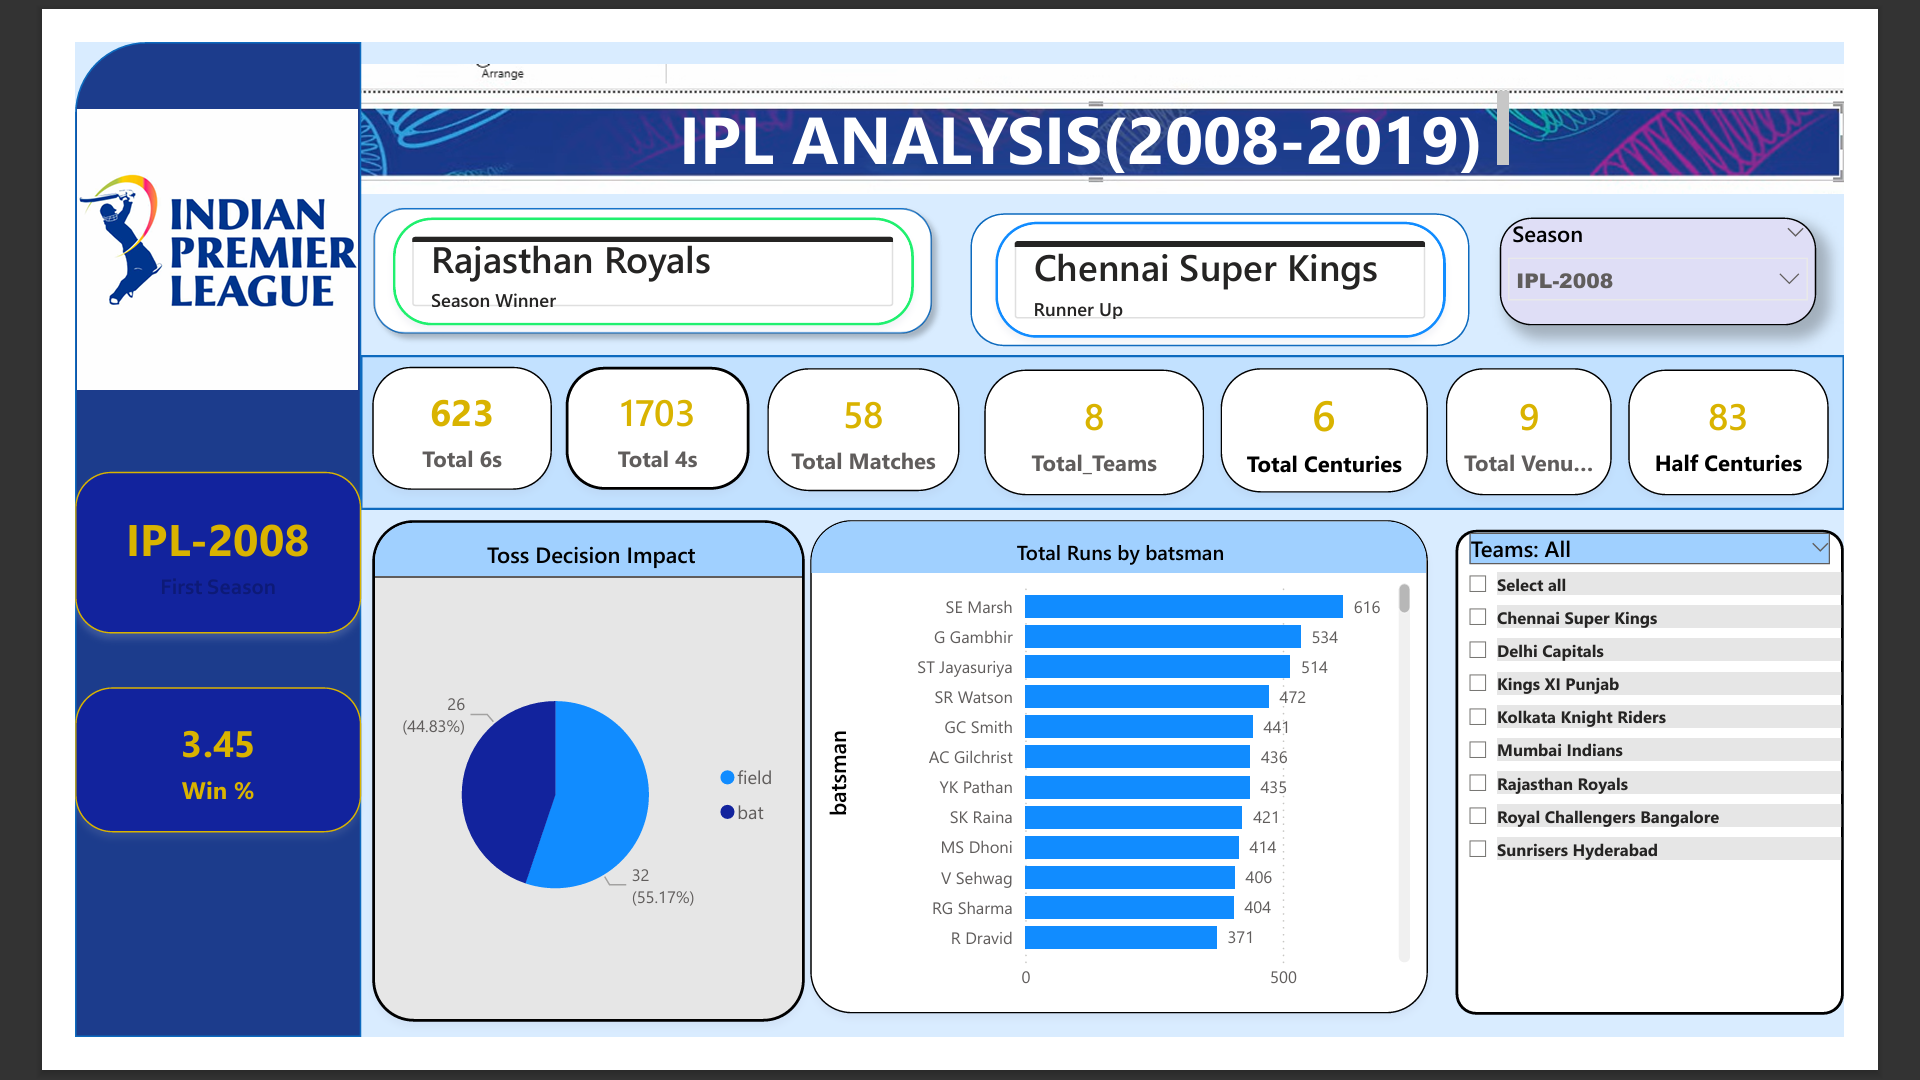

What the dashboard file says about the page in this screenshot:
{"tool":"powerbi","page":{"name":"Page-1","canvas":[1280,720],"ordinal":0},"visuals":[{"type":"image","box":[194.4,0,1085.9,126],"z":0},{"type":"textbox","box":[1041.9,289.8,238.5,123.5],"z":1000},{"type":"textbox","box":[421.9,30.6,620,68.5],"z":2000},{"type":"shape","box":[0,0,206.7,720.2],"z":3000},{"type":"slicer","fields":{"Values":["matches.Season"]},"box":[1030.8,127.2,228.7,78.3],"z":4000},{"type":"shape","box":[206.7,111.3,421.9,108.8],"z":5000},{"type":"shape","box":[206.7,227.4,1073.6,110.1],"z":6000},{"type":"cardVisual","fields":{"Data":["matches.Season Winner"]},"box":[229.9,127.2,376.6,78.3],"z":7000},{"type":"shape","box":[648.1,123.5,360.7,96.6],"z":8000},{"type":"cardVisual","fields":{"Data":["matches.Runner Up"]},"box":[666.4,129.6,325.3,84.4],"z":9000},{"type":"card","fields":{"Values":["1 deliveries.Total 6s"]},"box":[215.2,234.8,129.6,89.3],"z":10000},{"type":"card","fields":{"Values":["1 deliveries.Total 4s"]},"box":[354.6,234.8,133.3,89.3],"z":11000},{"type":"card","fields":{"Values":["1 deliveries.Total Matches"]},"box":[501.4,236,138.2,89.3],"z":12000},{"type":"card","fields":{"Values":["4 Teams.Total_Teams"]},"box":[657.9,237.2,159,90.5],"z":13000},{"type":"card","fields":{"Values":["1 deliveries.Total Centuries"]},"box":[829.1,236,150.4,90.5],"z":14000},{"type":"card","fields":{"Values":["1 deliveries.Total Venues"]},"box":[991.7,236,119.8,91.7],"z":15000},{"type":"card","fields":{"Values":["1 deliveries.Half Centuries"]},"box":[1123.8,237.2,145.5,90.5],"z":16000},{"type":"image","box":[0,48.9,206.7,203],"z":17000},{"type":"card","fields":{"Values":["Min(matches.Season)"]},"box":[0,310.6,206.7,117.4],"z":18000},{"type":"slicer","fields":{"Values":["4 Teams.team1"]},"box":[998.8,352.5,281.2,351.2],"z":19000},{"type":"card","fields":{"Values":["matches.Win %"]},"box":[0,467.1,206.7,105.2],"z":20000},{"type":"barChart","fields":{"Category":["3 most_runs_average_strikerate.batsman"],"Y":["1 deliveries.Total Runs"]},"box":[531.9,346.1,447.6,357.1],"z":21000},{"type":"pieChart","title":"Toss Decision Impact","fields":{"Y":["1 deliveries.Total Matches"],"Category":["matches.toss_decision"],"Series":["matches.toss_decision"]},"box":[215.2,346.1,313,363.2],"z":22000}]}

Visuals, with their boxes on the page's 1280x720 design canvas (x1, y1, x2, y2). These are canvas units, not pixel positions in the 1920x1080 screenshot, which may show the page scaled, cropped or inside an application window:
image: crop(194, 0, 1280, 126)
textbox: crop(1042, 290, 1280, 413)
textbox: crop(422, 31, 1042, 99)
shape: crop(0, 0, 207, 720)
slicer - matches.Season: crop(1031, 127, 1260, 206)
shape: crop(207, 111, 629, 220)
shape: crop(207, 227, 1280, 338)
cardVisual - matches.Season Winner: crop(230, 127, 606, 206)
shape: crop(648, 124, 1009, 220)
cardVisual - matches.Runner Up: crop(666, 130, 992, 214)
card - 1 deliveries.Total 6s: crop(215, 235, 345, 324)
card - 1 deliveries.Total 4s: crop(355, 235, 488, 324)
card - 1 deliveries.Total Matches: crop(501, 236, 640, 325)
card - 4 Teams.Total_Teams: crop(658, 237, 817, 328)
card - 1 deliveries.Total Centuries: crop(829, 236, 980, 326)
card - 1 deliveries.Total Venues: crop(992, 236, 1112, 328)
card - 1 deliveries.Half Centuries: crop(1124, 237, 1269, 328)
image: crop(0, 49, 207, 252)
card - Min(matches.Season): crop(0, 311, 207, 428)
slicer - 4 Teams.team1: crop(999, 352, 1280, 704)
card - matches.Win %: crop(0, 467, 207, 572)
barChart - 3 most_runs_average_strikerate.batsman x 1 deliveries.Total Runs: crop(532, 346, 980, 703)
"Toss Decision Impact" pieChart: crop(215, 346, 528, 709)
